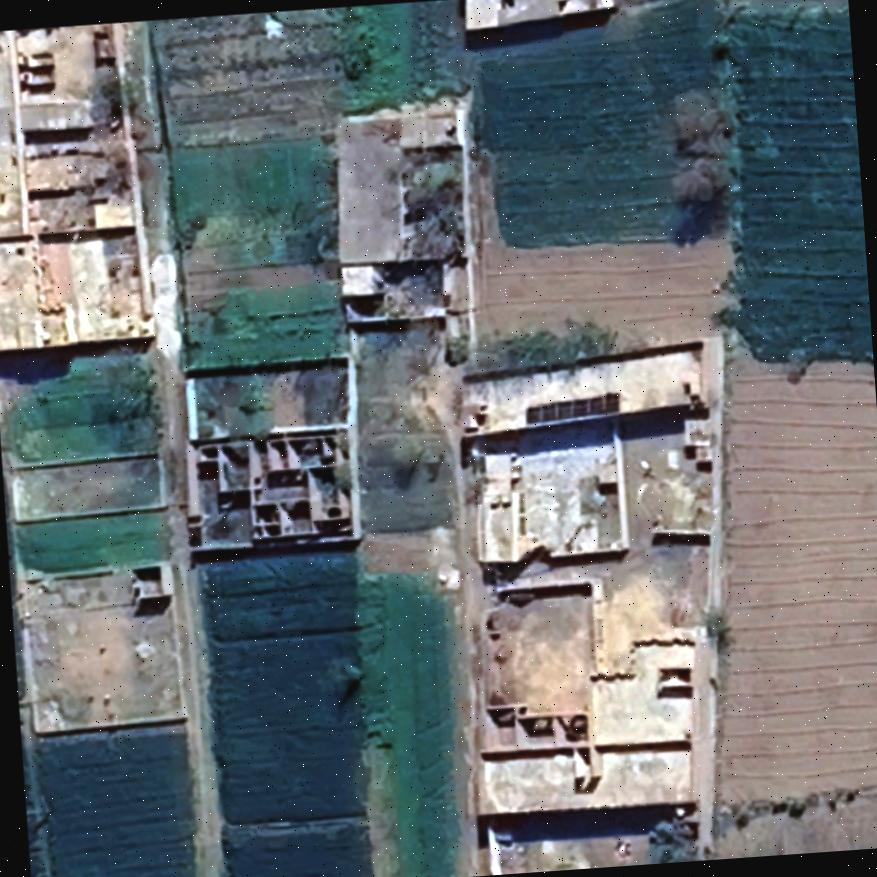Solarpanel: (518, 387, 624, 428)
